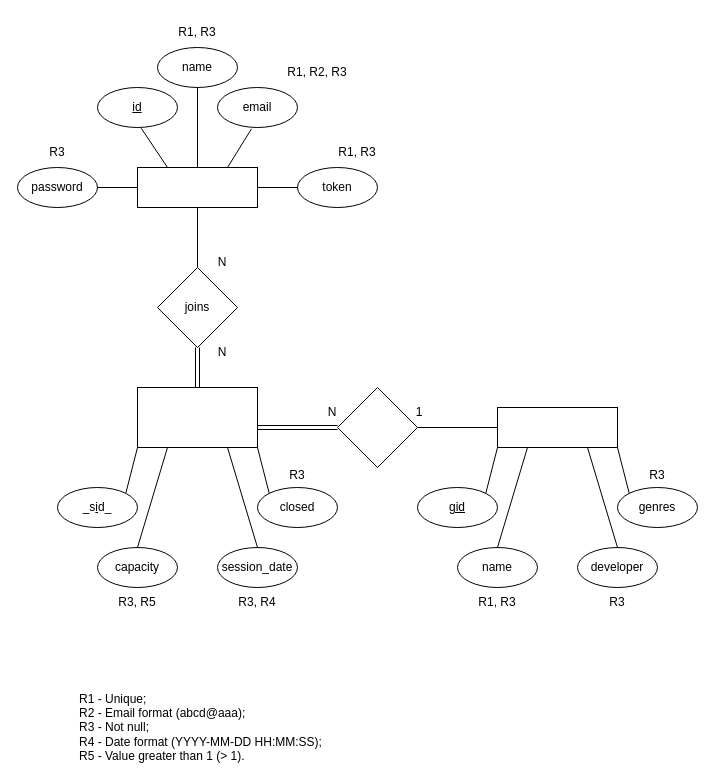
The diagram is 715 pixels wide and 784 high, and some of its shapes have lost their labels. The shapes that lost their labels are listed below. From the top down, each one's centre as x and y in pixels, then its label:
the point at 197,187: Player
the point at 197,417: Session
the point at 557,427: Game
